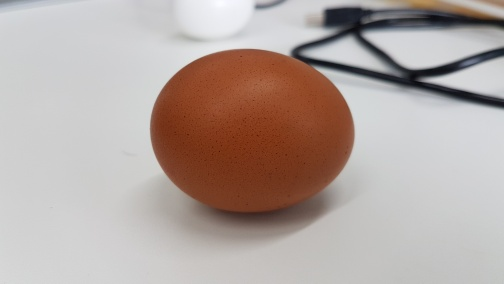egg: (149, 47, 359, 216)
